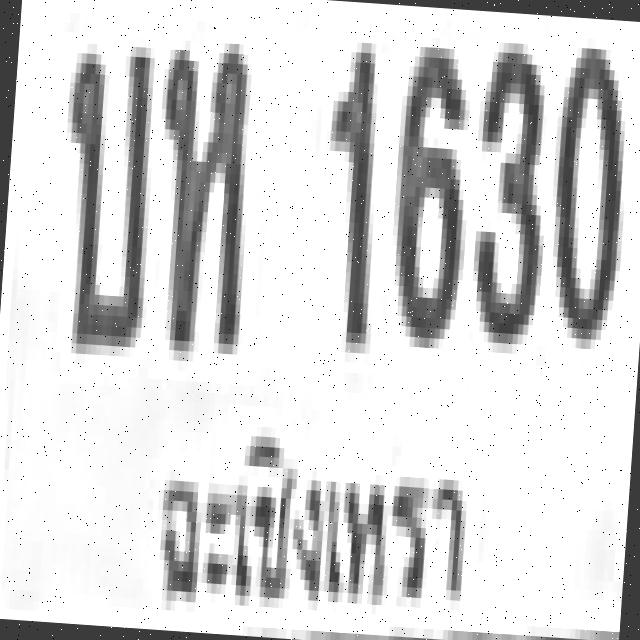0: (538, 18, 640, 355)
1: (306, 28, 404, 382)
3: (452, 22, 564, 370)
35BorBaiMai: (54, 37, 165, 362)
50HorHeep: (139, 39, 275, 381)
6: (372, 21, 486, 388)
Chachoengsao: (132, 406, 518, 640)
